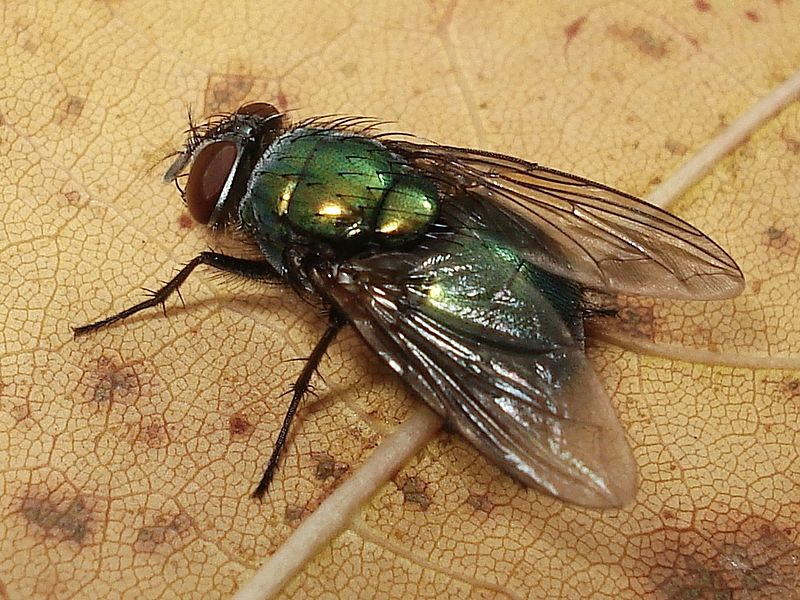green bottles flies: (59, 49, 755, 563)
